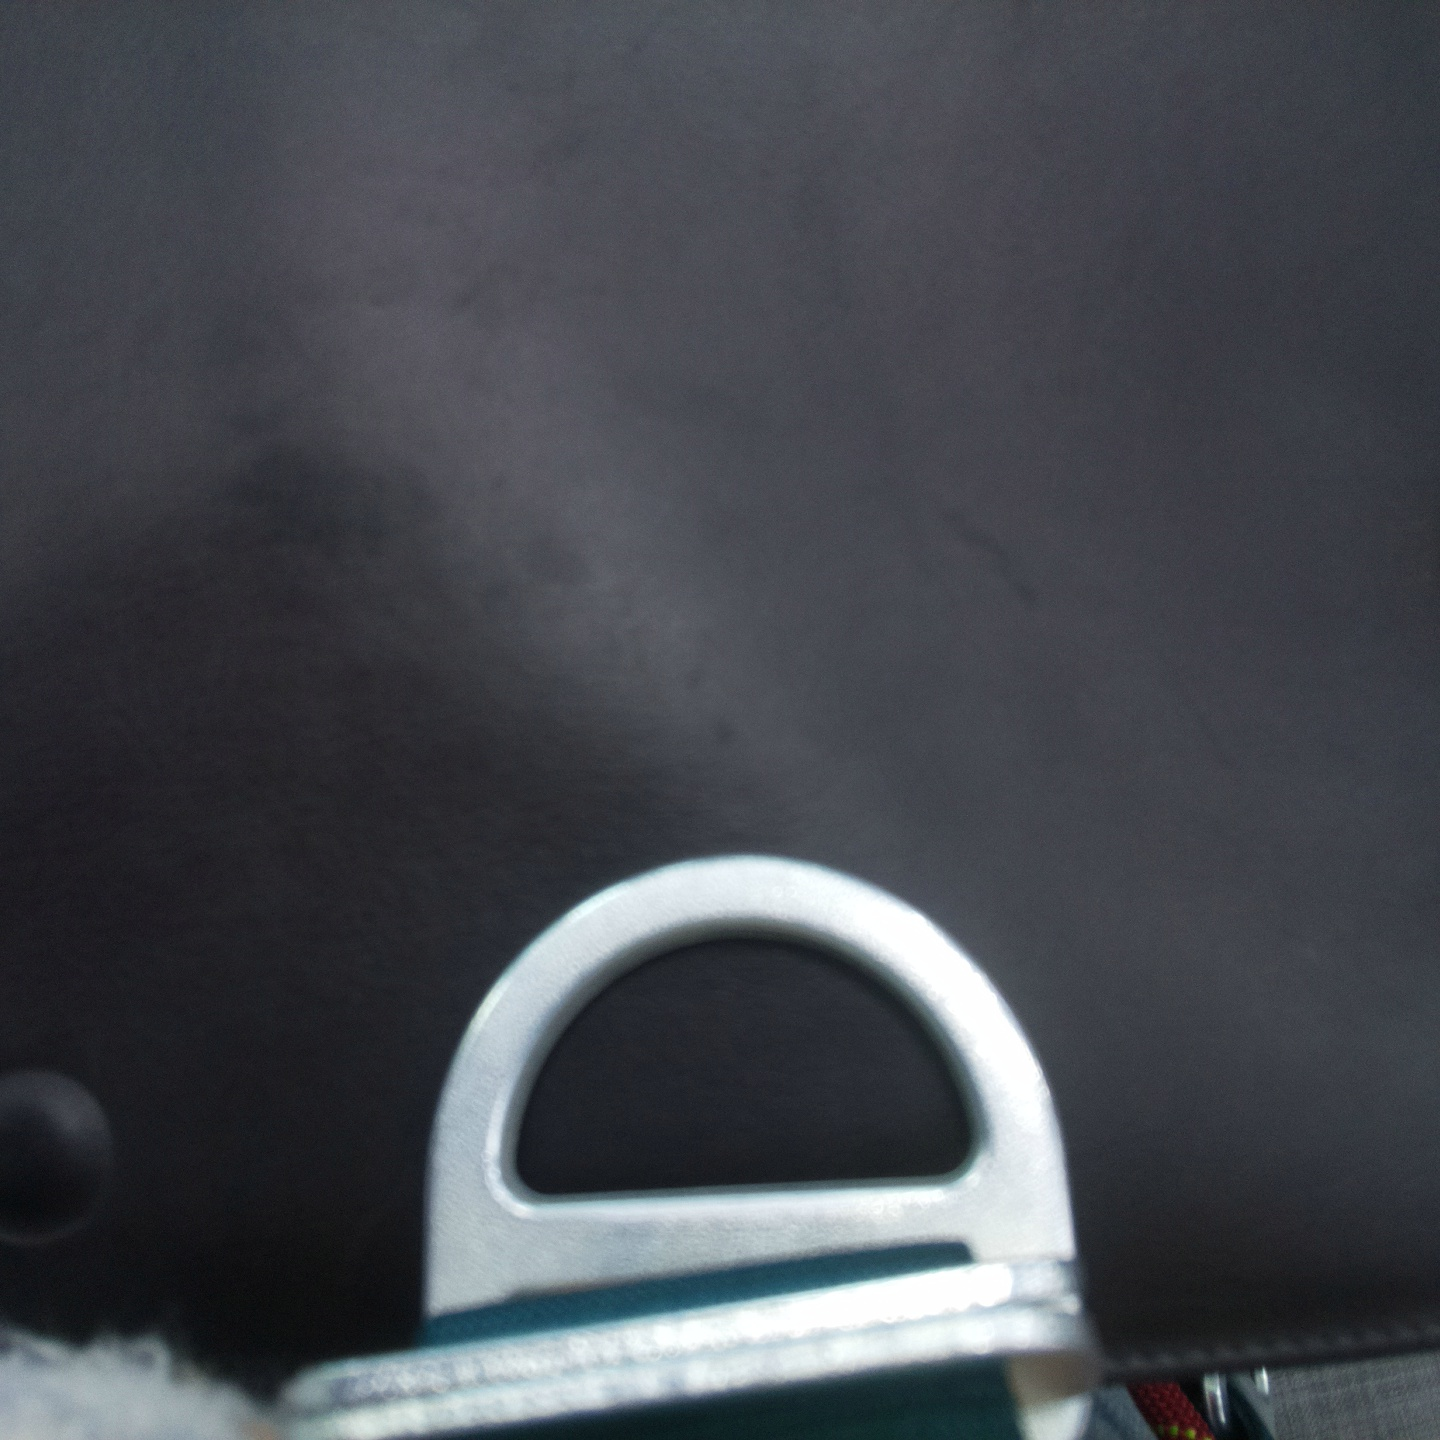UNSUCCESS: (398, 833, 1095, 1344)
